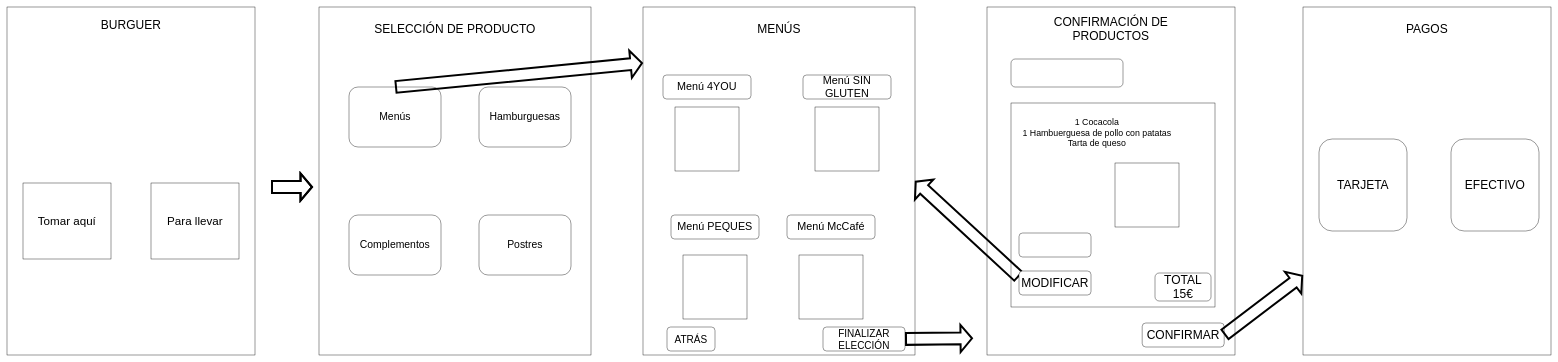
Some shapes in this 1558 by 362 pixel diagram are drawn without their labels. Here are the shapes that lost their labels. From the top down, the centre of each, then its label:
At (x=1067, y=73): "Resumen del pedido".
At (x=1055, y=245): "CANCELAR".
